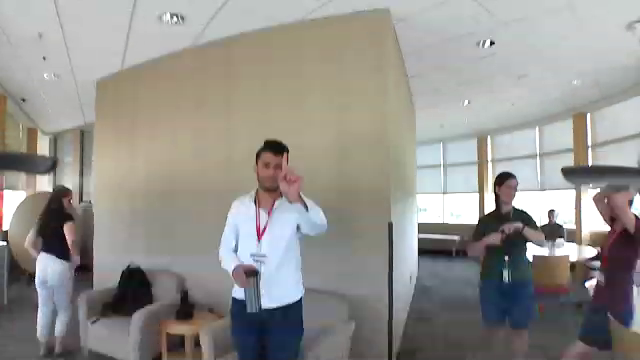up: (278, 149, 302, 207)
